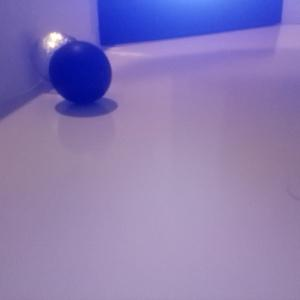alive_ball: (32, 31, 80, 82)
dead_ball: (50, 41, 111, 102)
